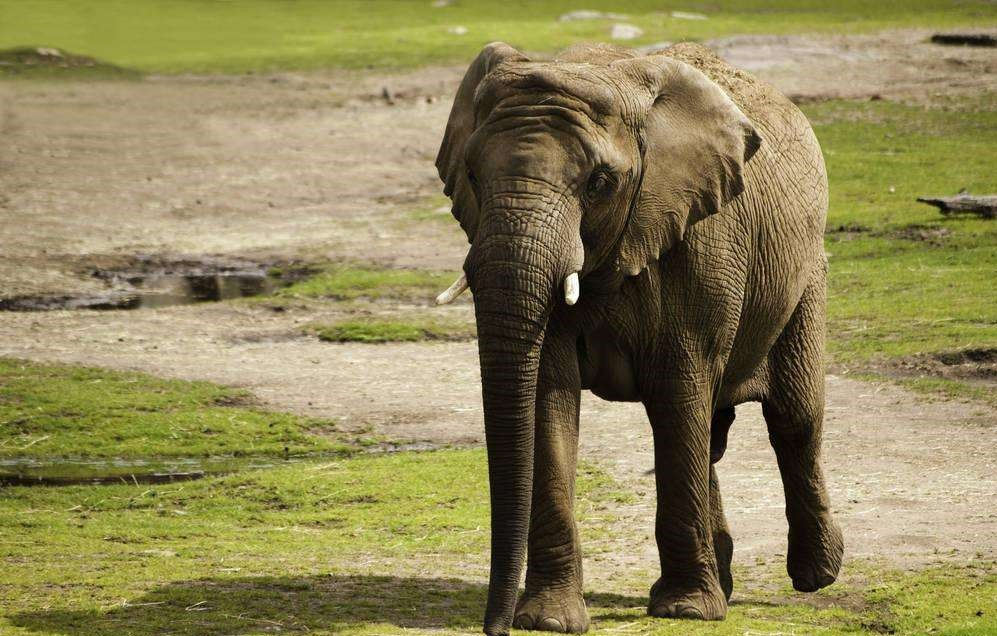elephant: (428, 38, 850, 636)
